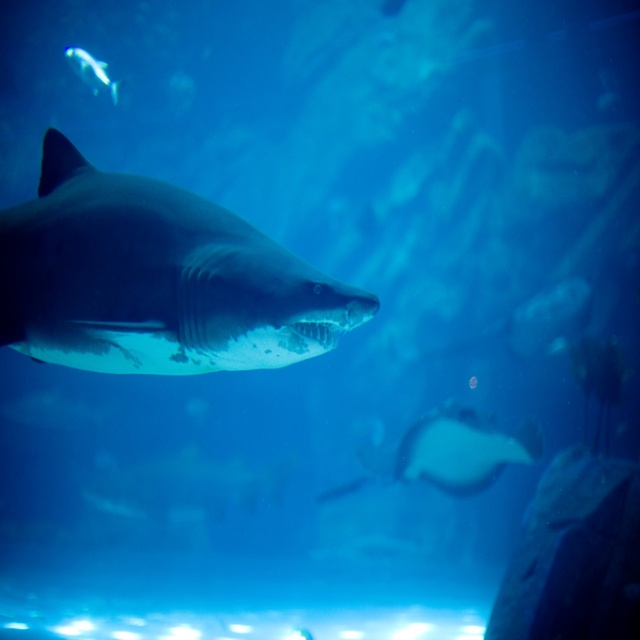Shark: (1, 104, 385, 394)
